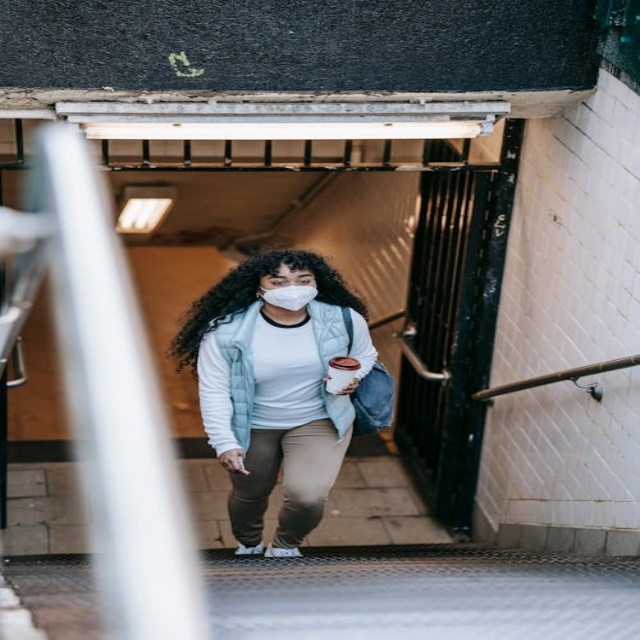Mascara: (257, 284, 320, 311)
Sin_gafas: (271, 280, 286, 285), (299, 280, 311, 285)
Sin_guantes: (216, 445, 255, 478), (331, 375, 360, 396)
